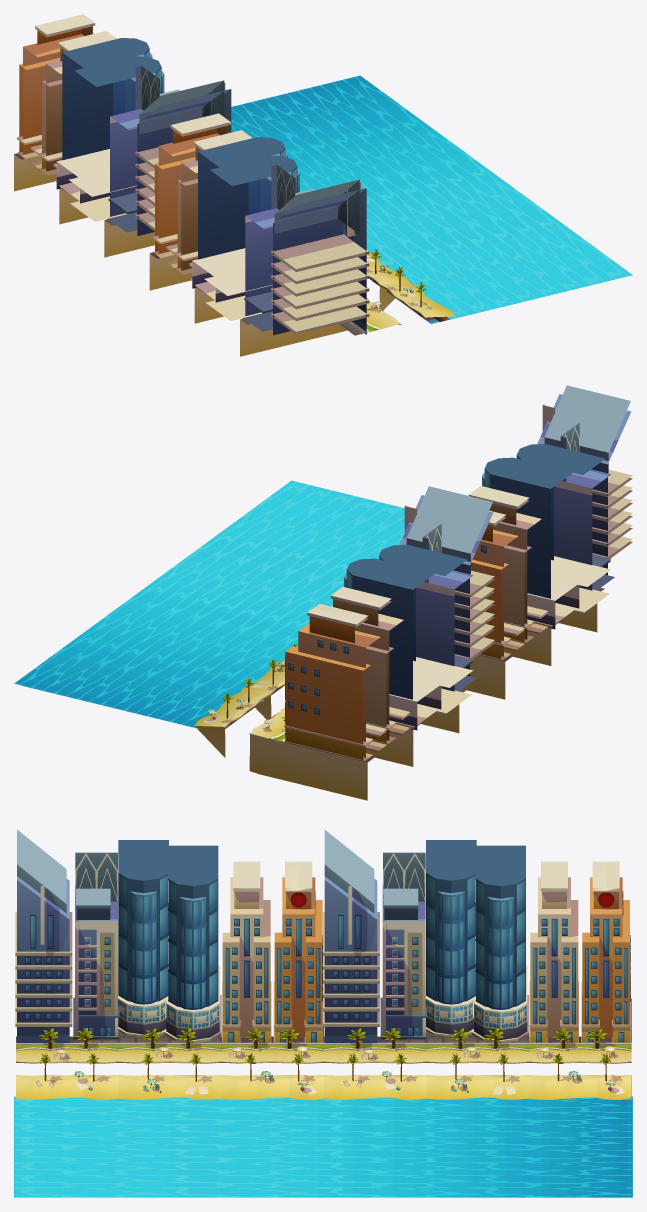
Rendered from City2.fbx.
3 views of the same model, one above another, from view 1: azimuth 30°, elevation 25°; view 2: azimuth 150°, elevation 25°; view 3: azimuth 270°, elevation 25° (orthographic). The views are drawn at different scales.
Parts seen in each view (by area): view 1: Plane, 1.104_Dubai_med_03_right.001, 1.104_Dubai_med_02_right.001, 1.104_Dubai_med_02_right, 1.104_Dubai_med_03_right, 1.104_Dubai_med_01_right, 1.104_Dubai_med_01_right.001, 1.104_Dubai_med_03_left.001, 1.104_Dubai_med_02_left.001; view 2: Plane, 1.104_Dubai_med_01_right, 1.104_Dubai_med_03_right, 1.104_Dubai_med_03_right.001, 1.104_Dubai_med_02_right.001, 1.104_Dubai_med_02_right, 1.104_Dubai_med_01_right.001, 1.104_Dubai_med_01_left, 1.104_Dubai_med_02_left; view 3: Plane, 1.104_Dubai_med_02_right.001, 1.104_Dubai_med_02_right, 1.104_Dubai_med_03_right, 1.104_Dubai_med_03_right.001, 1.104_Dubai_med_01_right.001, 1.104_Dubai_med_01_right, 1.104_Dubai_med_03_left, 1.104_Dubai_med_01_left, 1.104_Dubai_med_03_left.001, 1.104_Dubai_med_01_left.001, 1.104_Dubai_med_02_left (+1 smaller).
Boxes of the visible parts, x1=… form: Plane: x1=231, y1=75, x2=632, y2=319; 1.104_Dubai_med_03_right.001: x1=240, y1=165, x2=401, y2=356; 1.104_Dubai_med_02_right.001: x1=192, y1=137, x2=299, y2=323; 1.104_Dubai_med_02_right: x1=56, y1=38, x2=164, y2=224; 1.104_Dubai_med_03_right: x1=104, y1=65, x2=231, y2=257; 1.104_Dubai_med_01_right: x1=14, y1=14, x2=116, y2=191; 1.104_Dubai_med_01_right.001: x1=149, y1=113, x2=252, y2=290; 1.104_Dubai_med_03_left.001: x1=379, y1=266, x2=455, y2=323; 1.104_Dubai_med_02_left.001: x1=366, y1=249, x2=409, y2=286; Plane: x1=14, y1=480, x2=404, y2=728; 1.104_Dubai_med_01_right: x1=249, y1=587, x2=409, y2=800; 1.104_Dubai_med_03_right: x1=399, y1=486, x2=494, y2=733; 1.104_Dubai_med_03_right.001: x1=537, y1=385, x2=632, y2=632; 1.104_Dubai_med_02_right.001: x1=482, y1=444, x2=610, y2=665; 1.104_Dubai_med_02_right: x1=344, y1=545, x2=473, y2=766; 1.104_Dubai_med_01_right.001: x1=463, y1=486, x2=547, y2=699; 1.104_Dubai_med_01_left: x1=29, y1=677, x2=271, y2=757; 1.104_Dubai_med_02_left: x1=240, y1=644, x2=297, y2=719; Plane: x1=14, y1=1096, x2=632, y2=1197; 1.104_Dubai_med_02_right.001: x1=118, y1=840, x2=221, y2=1063; 1.104_Dubai_med_02_right: x1=425, y1=840, x2=528, y2=1063; 1.104_Dubai_med_03_right: x1=323, y1=830, x2=426, y2=1063; 1.104_Dubai_med_03_right.001: x1=15, y1=829, x2=119, y2=1063; 1.104_Dubai_med_01_right.001: x1=221, y1=861, x2=323, y2=1063; 1.104_Dubai_med_01_right: x1=528, y1=861, x2=631, y2=1063; 1.104_Dubai_med_03_left: x1=323, y1=1053, x2=426, y2=1099; 1.104_Dubai_med_01_left: x1=528, y1=1053, x2=631, y2=1099; 1.104_Dubai_med_03_left.001: x1=16, y1=1053, x2=118, y2=1099; 1.104_Dubai_med_01_left.001: x1=221, y1=1053, x2=323, y2=1099; 1.104_Dubai_med_02_left: x1=426, y1=1053, x2=528, y2=1099.
Size of the model in its own units: 57710 by 29398 by 75750.
